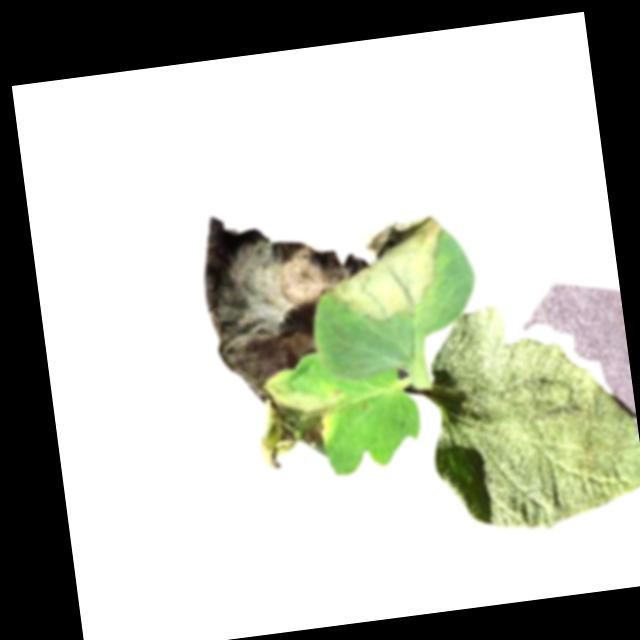Late_blight: (194, 195, 385, 411), (322, 208, 454, 327), (254, 380, 330, 472)
healthy: (415, 290, 640, 543)
